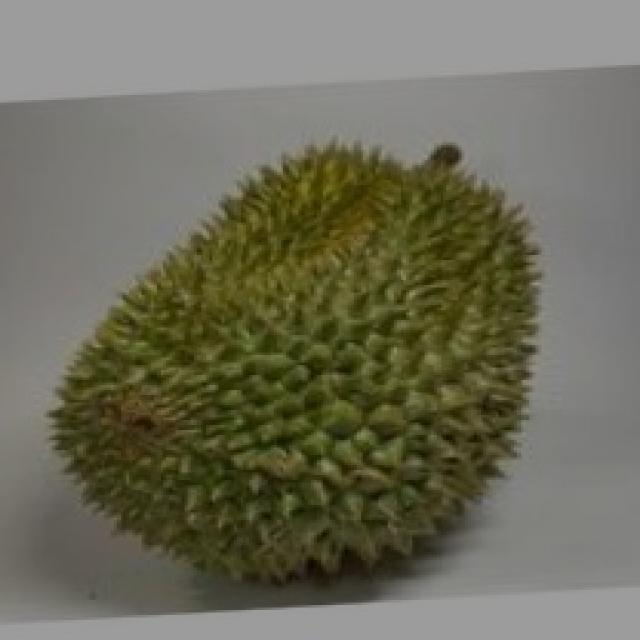fruit: (240, 145, 585, 607), (6, 225, 379, 620)
